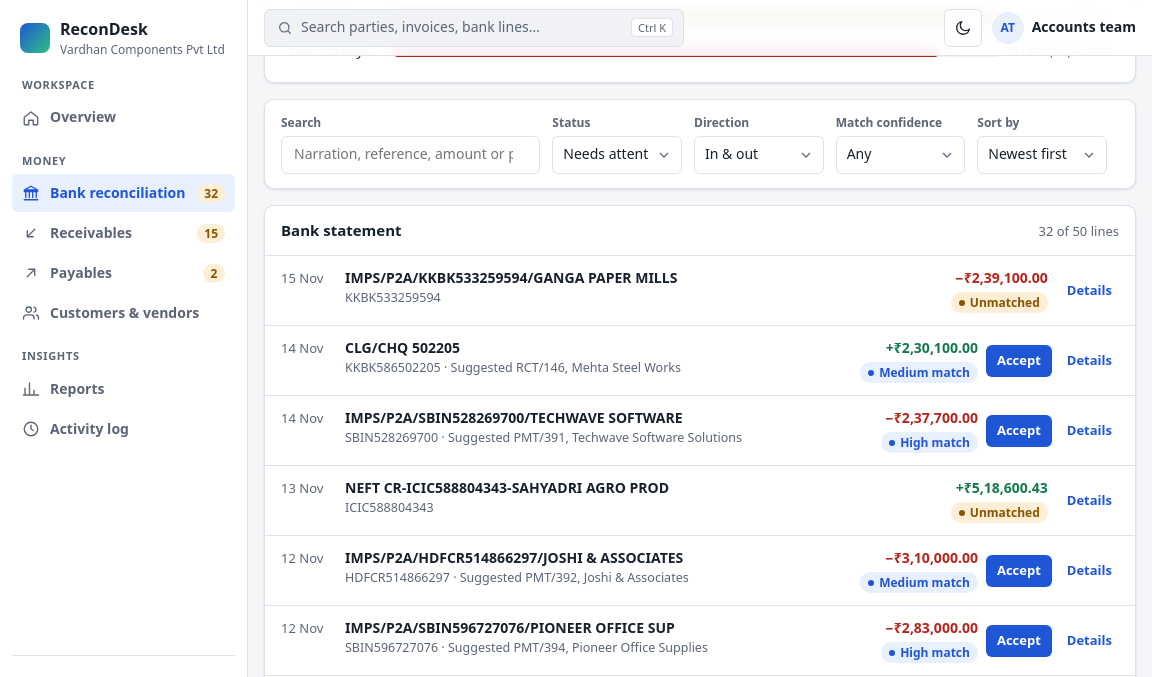
Scenario: Workbench › rolls back an optimistic update when the save fails
The image size is (1152, 677).
(page scrolled)
Click the button with aria-label "accept match with".
click(1019, 361)  # box [986,345,1052,377]
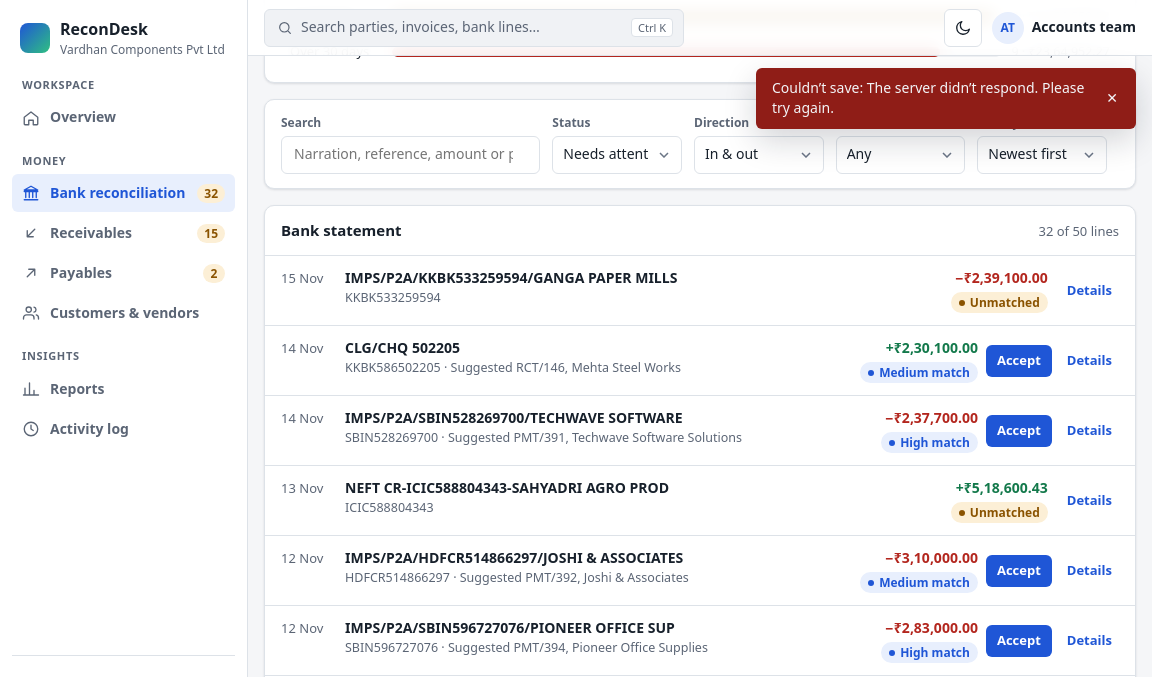
Expected: the text "Couldn’t save: The server didn’t respond. Please try again." is shown, [772,78,1088,119]
